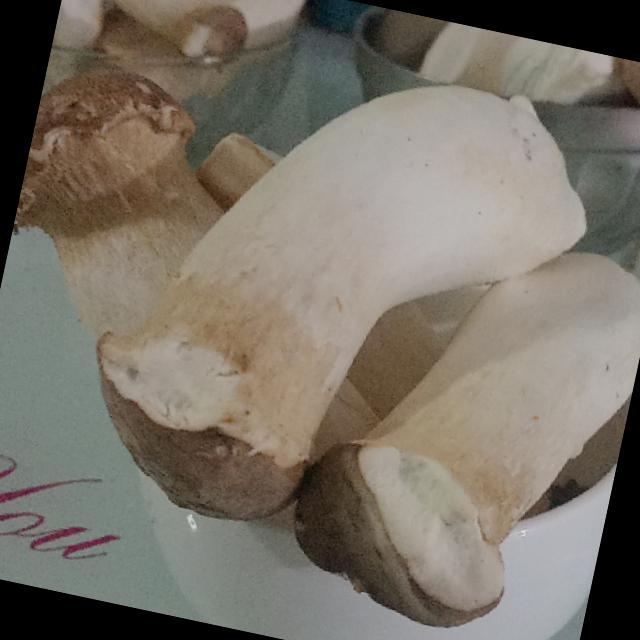Pleurotus eryngii: (71, 21, 614, 581), (273, 204, 640, 640), (0, 51, 255, 369)
